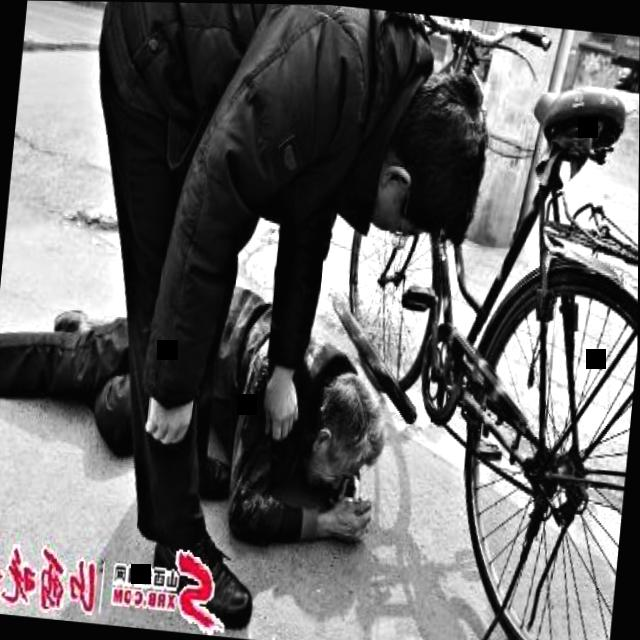Fall-Detected: (0, 254, 441, 553)
